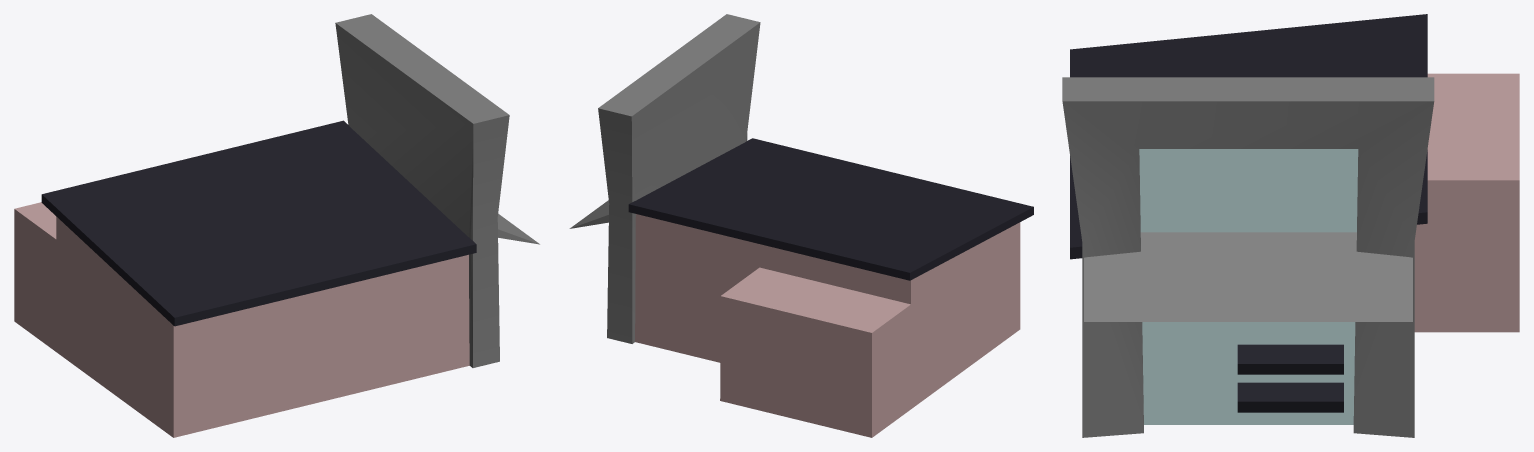
File: Lvl4.fbx
3 renders of one model, left to right at view 1: azimuth 30°, elevation 25°; view 2: azimuth 150°, elevation 25°; view 3: azimuth 270°, elevation 25°, orthographic. The views are drawn at different scales.
Parts seen in each view (by area): view 1: Lvl4; view 2: Lvl4; view 3: Lvl4.
Boxes of the visible parts, x1=… form: Lvl4: x1=14, y1=14, x2=539, y2=437; Lvl4: x1=569, y1=14, x2=1033, y2=437; Lvl4: x1=1062, y1=14, x2=1519, y2=437.
Size of the model in its own units: 356 by 230 by 282.
